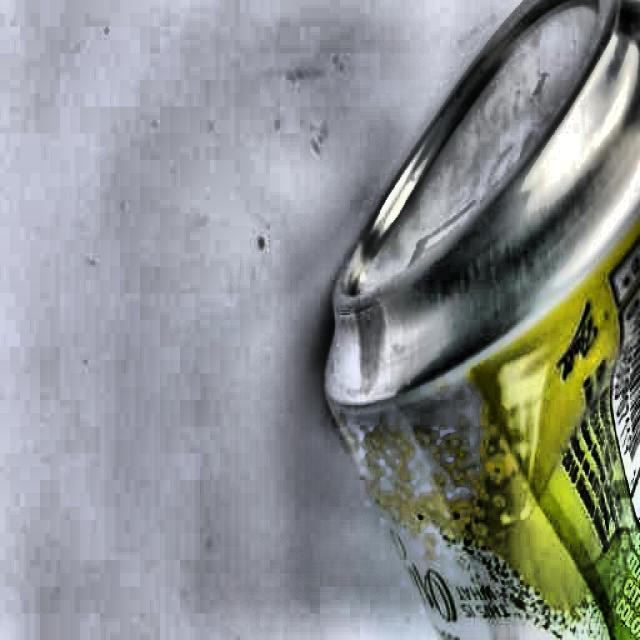metal: (323, 4, 640, 640)
